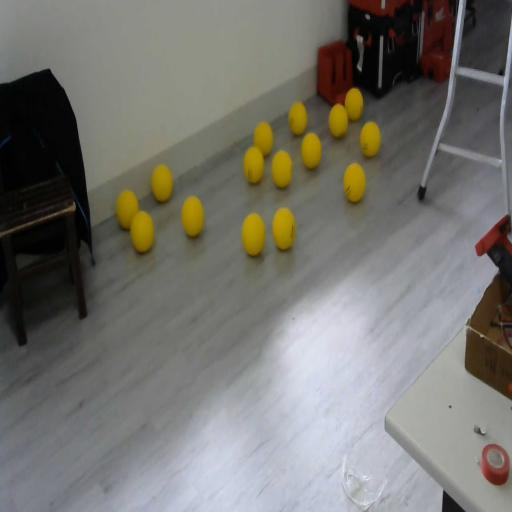FUEL: (129, 209, 155, 255), (241, 212, 266, 257), (271, 206, 296, 251), (180, 194, 204, 238), (342, 162, 366, 204), (150, 163, 174, 203), (271, 150, 293, 188), (300, 132, 322, 168), (360, 121, 381, 157), (328, 102, 348, 139), (244, 147, 264, 184), (254, 121, 274, 156), (344, 86, 364, 121), (288, 101, 307, 136)
